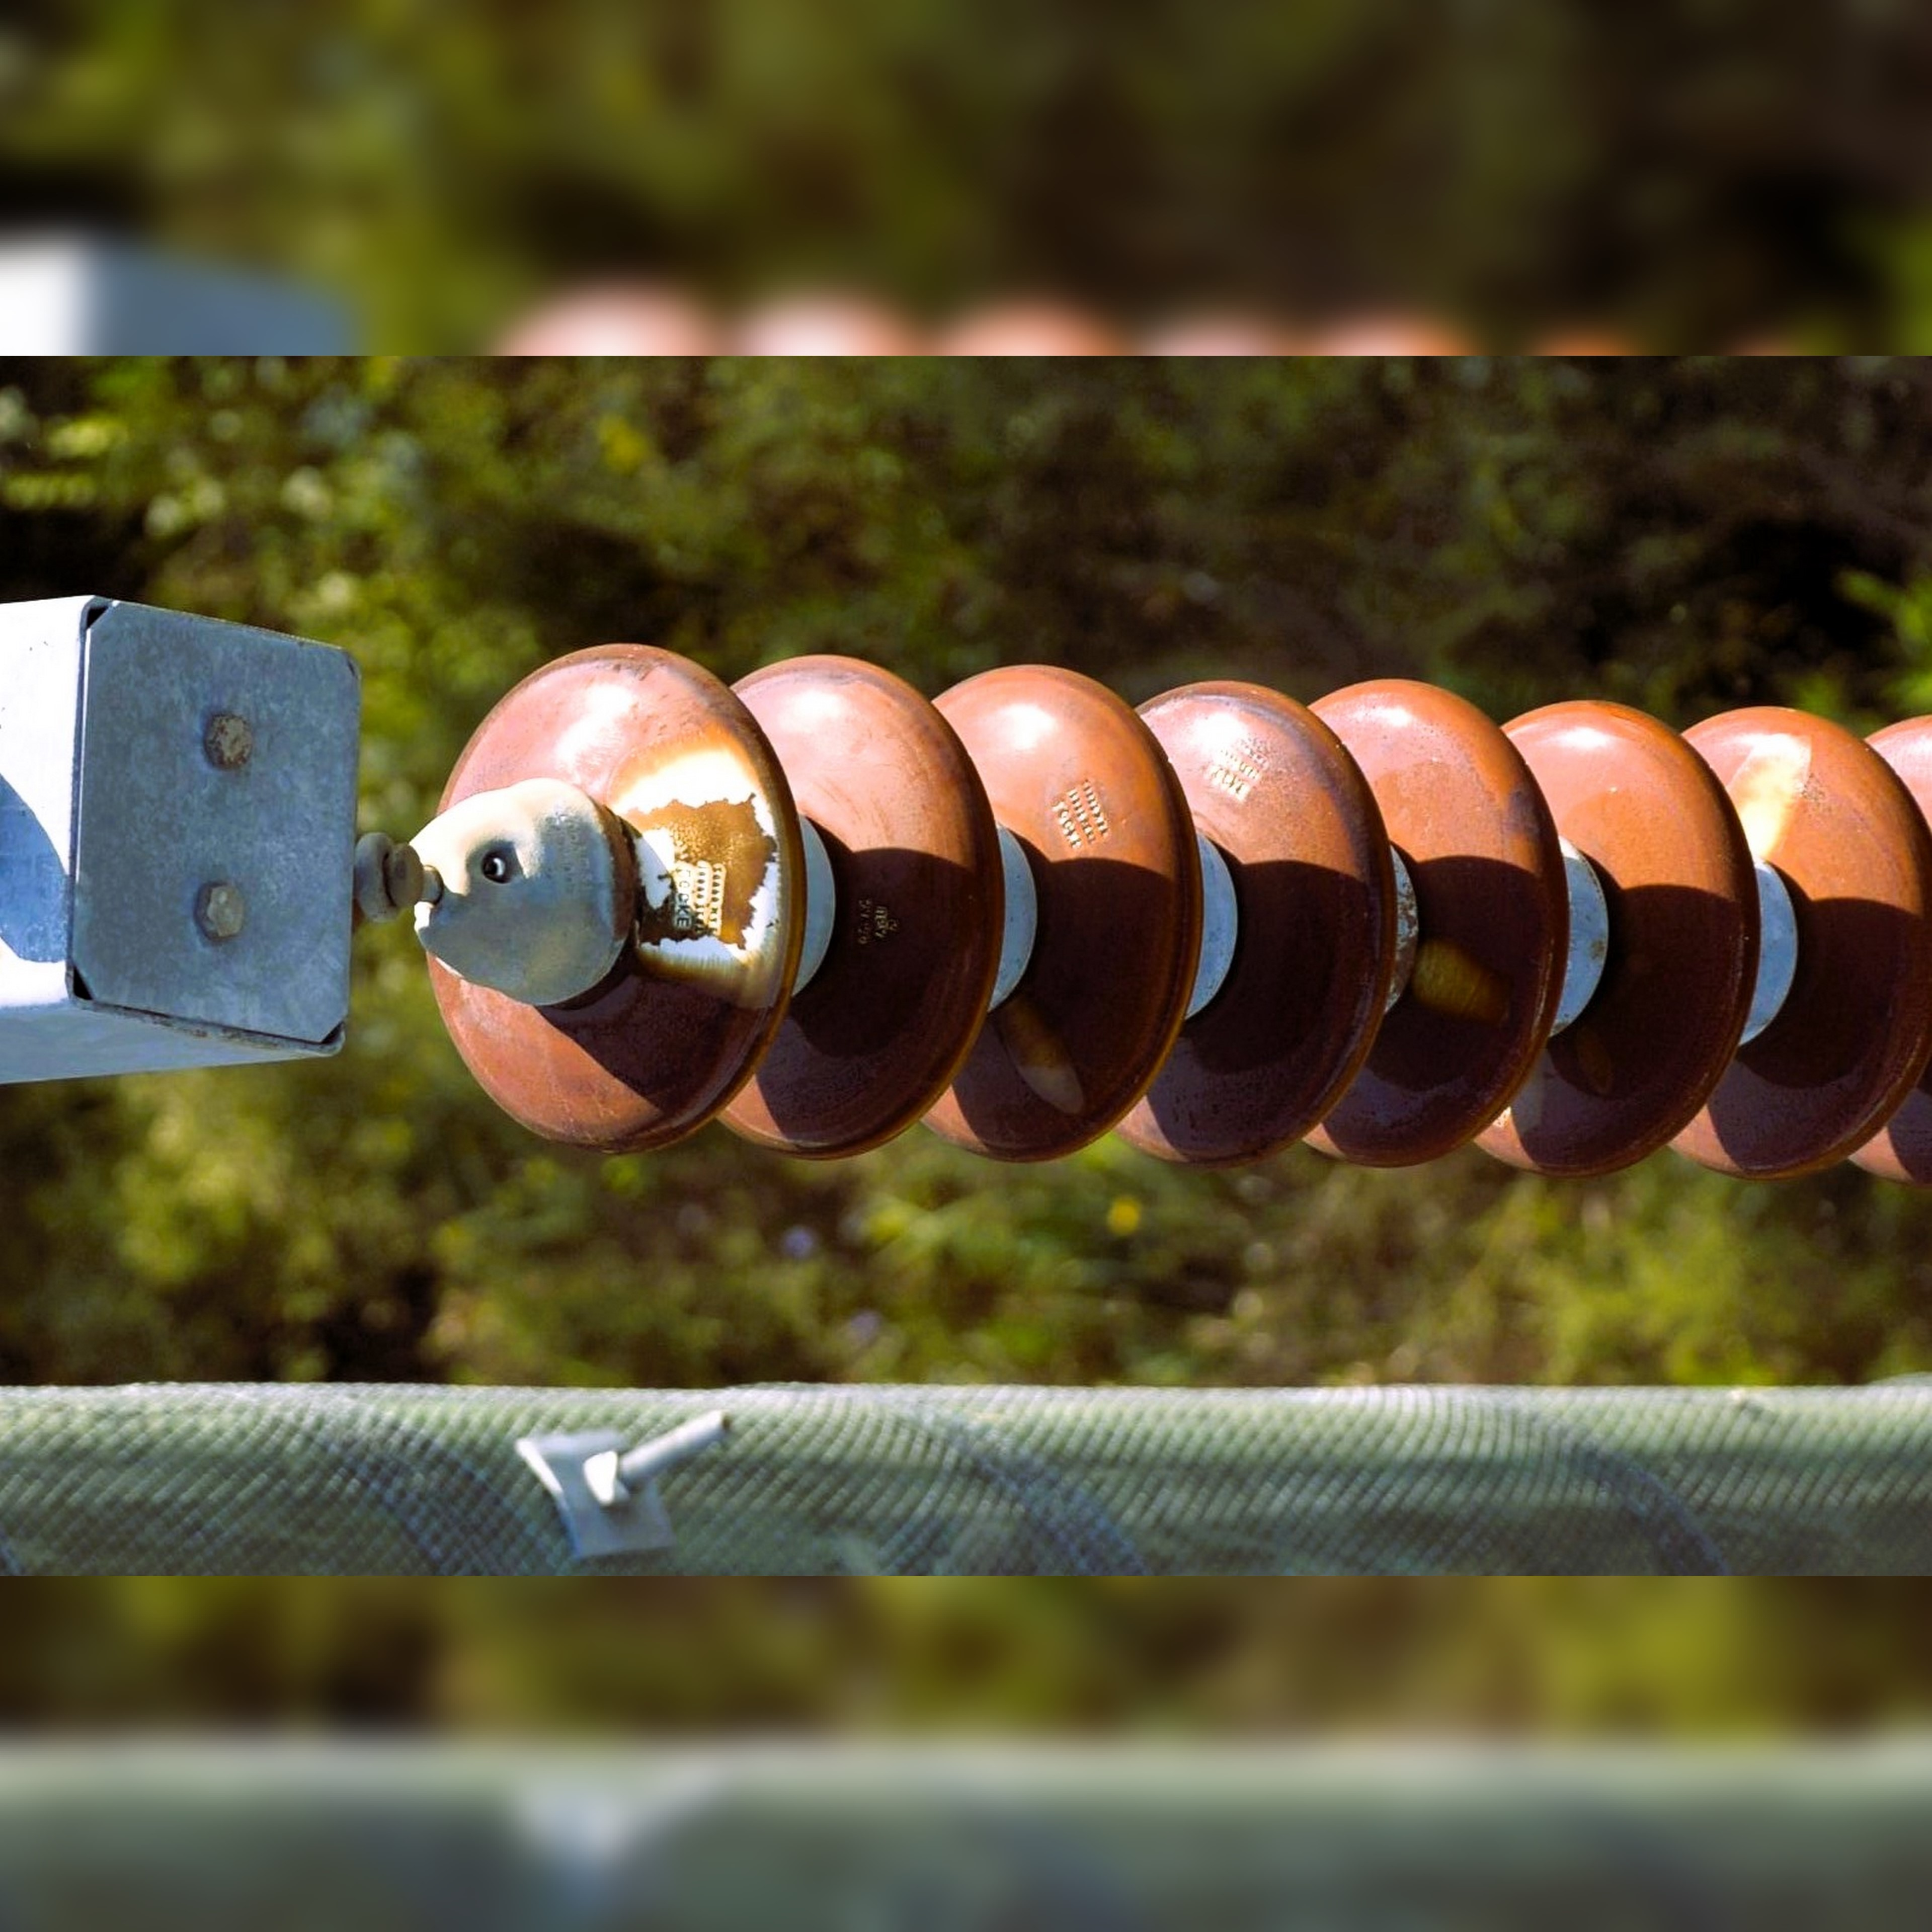Insulator flashover: (400, 630, 817, 1166)
